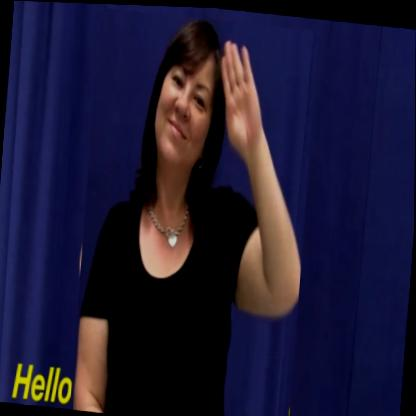Hello: (70, 6, 319, 416)
